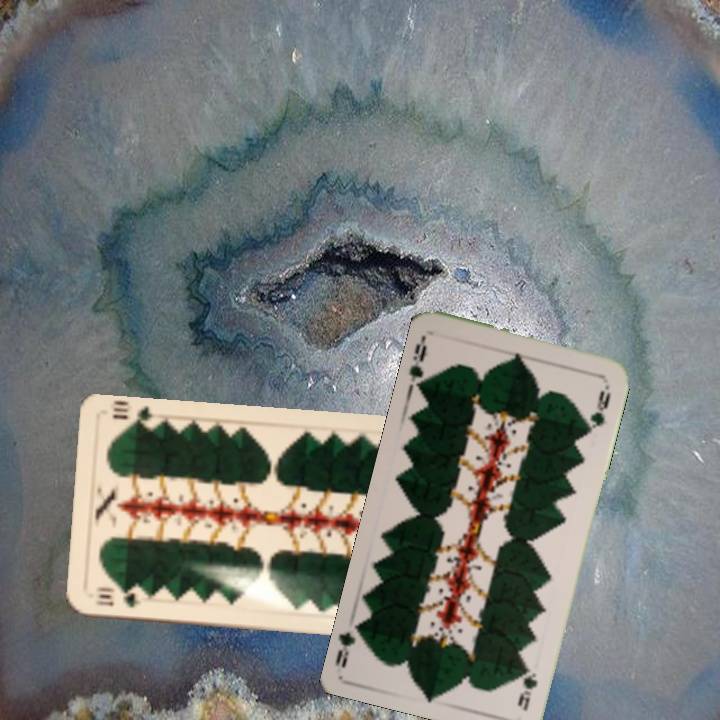G10: (91, 585, 143, 610)
G9: (405, 331, 432, 390), (513, 661, 540, 714)
